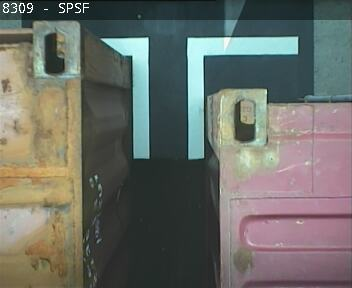groundmarker_1: (93, 37, 300, 160)
